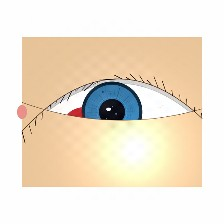hemorrhage_spot: (57, 96, 116, 143)
